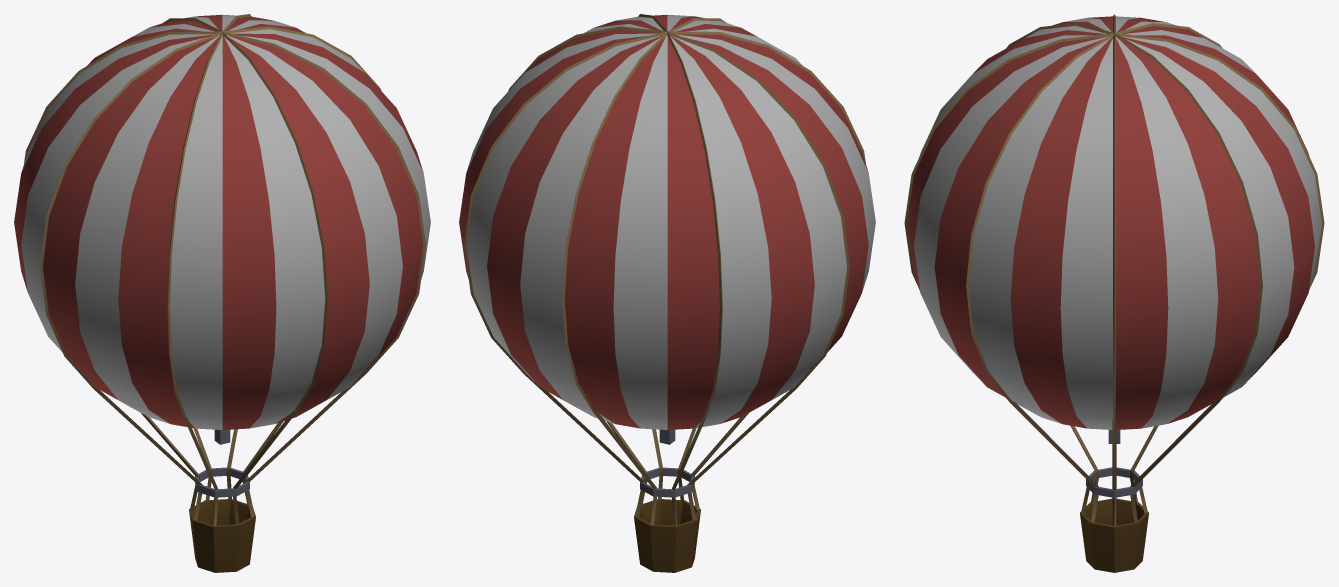
File: balloon.fbx
The picture shows the model from 3 angles, left to right: view 1: azimuth 30°, elevation 25°; view 2: azimuth 150°, elevation 25°; view 3: azimuth 270°, elevation 25°; orthographic projection.
Visible parts, largest first — view 1: balloon; view 2: balloon; view 3: balloon.
Boxes of the visible parts, x1,y1,x2,y2 form: balloon: [14, 14, 430, 572]; balloon: [459, 14, 875, 572]; balloon: [904, 14, 1324, 572].
Bounding box in the file's own units: 1817 × 2520 × 1817.
